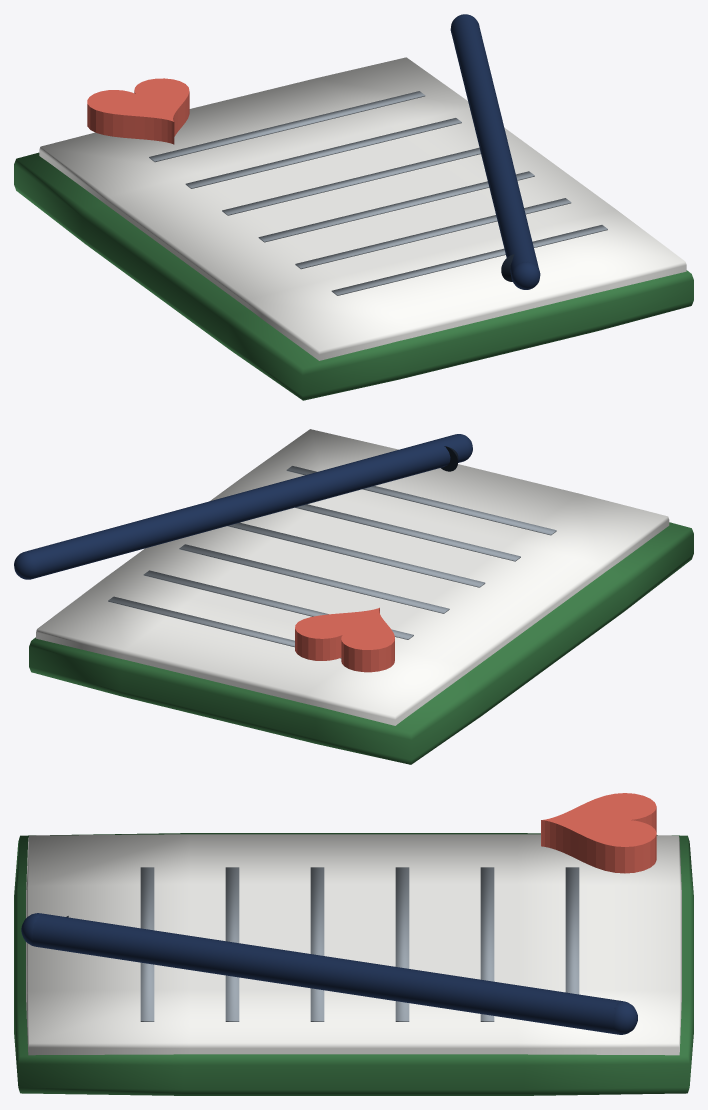
File: notebook.glb
3 views of the same model, one above another, from view 1: azimuth 30°, elevation 25°; view 2: azimuth 150°, elevation 25°; view 3: azimuth 270°, elevation 25° (orthographic). The views are drawn at different scales.
Parts seen in each view (by area): view 1: notebook; view 2: notebook; view 3: notebook.
Part boxes in pixels (x1=…): notebook: x1=14, y1=14, x2=693, y2=400; notebook: x1=14, y1=429, x2=693, y2=764; notebook: x1=14, y1=793, x2=693, y2=1095.
Size of the model in its own units: 2.42 by 0.52 by 2.8.
